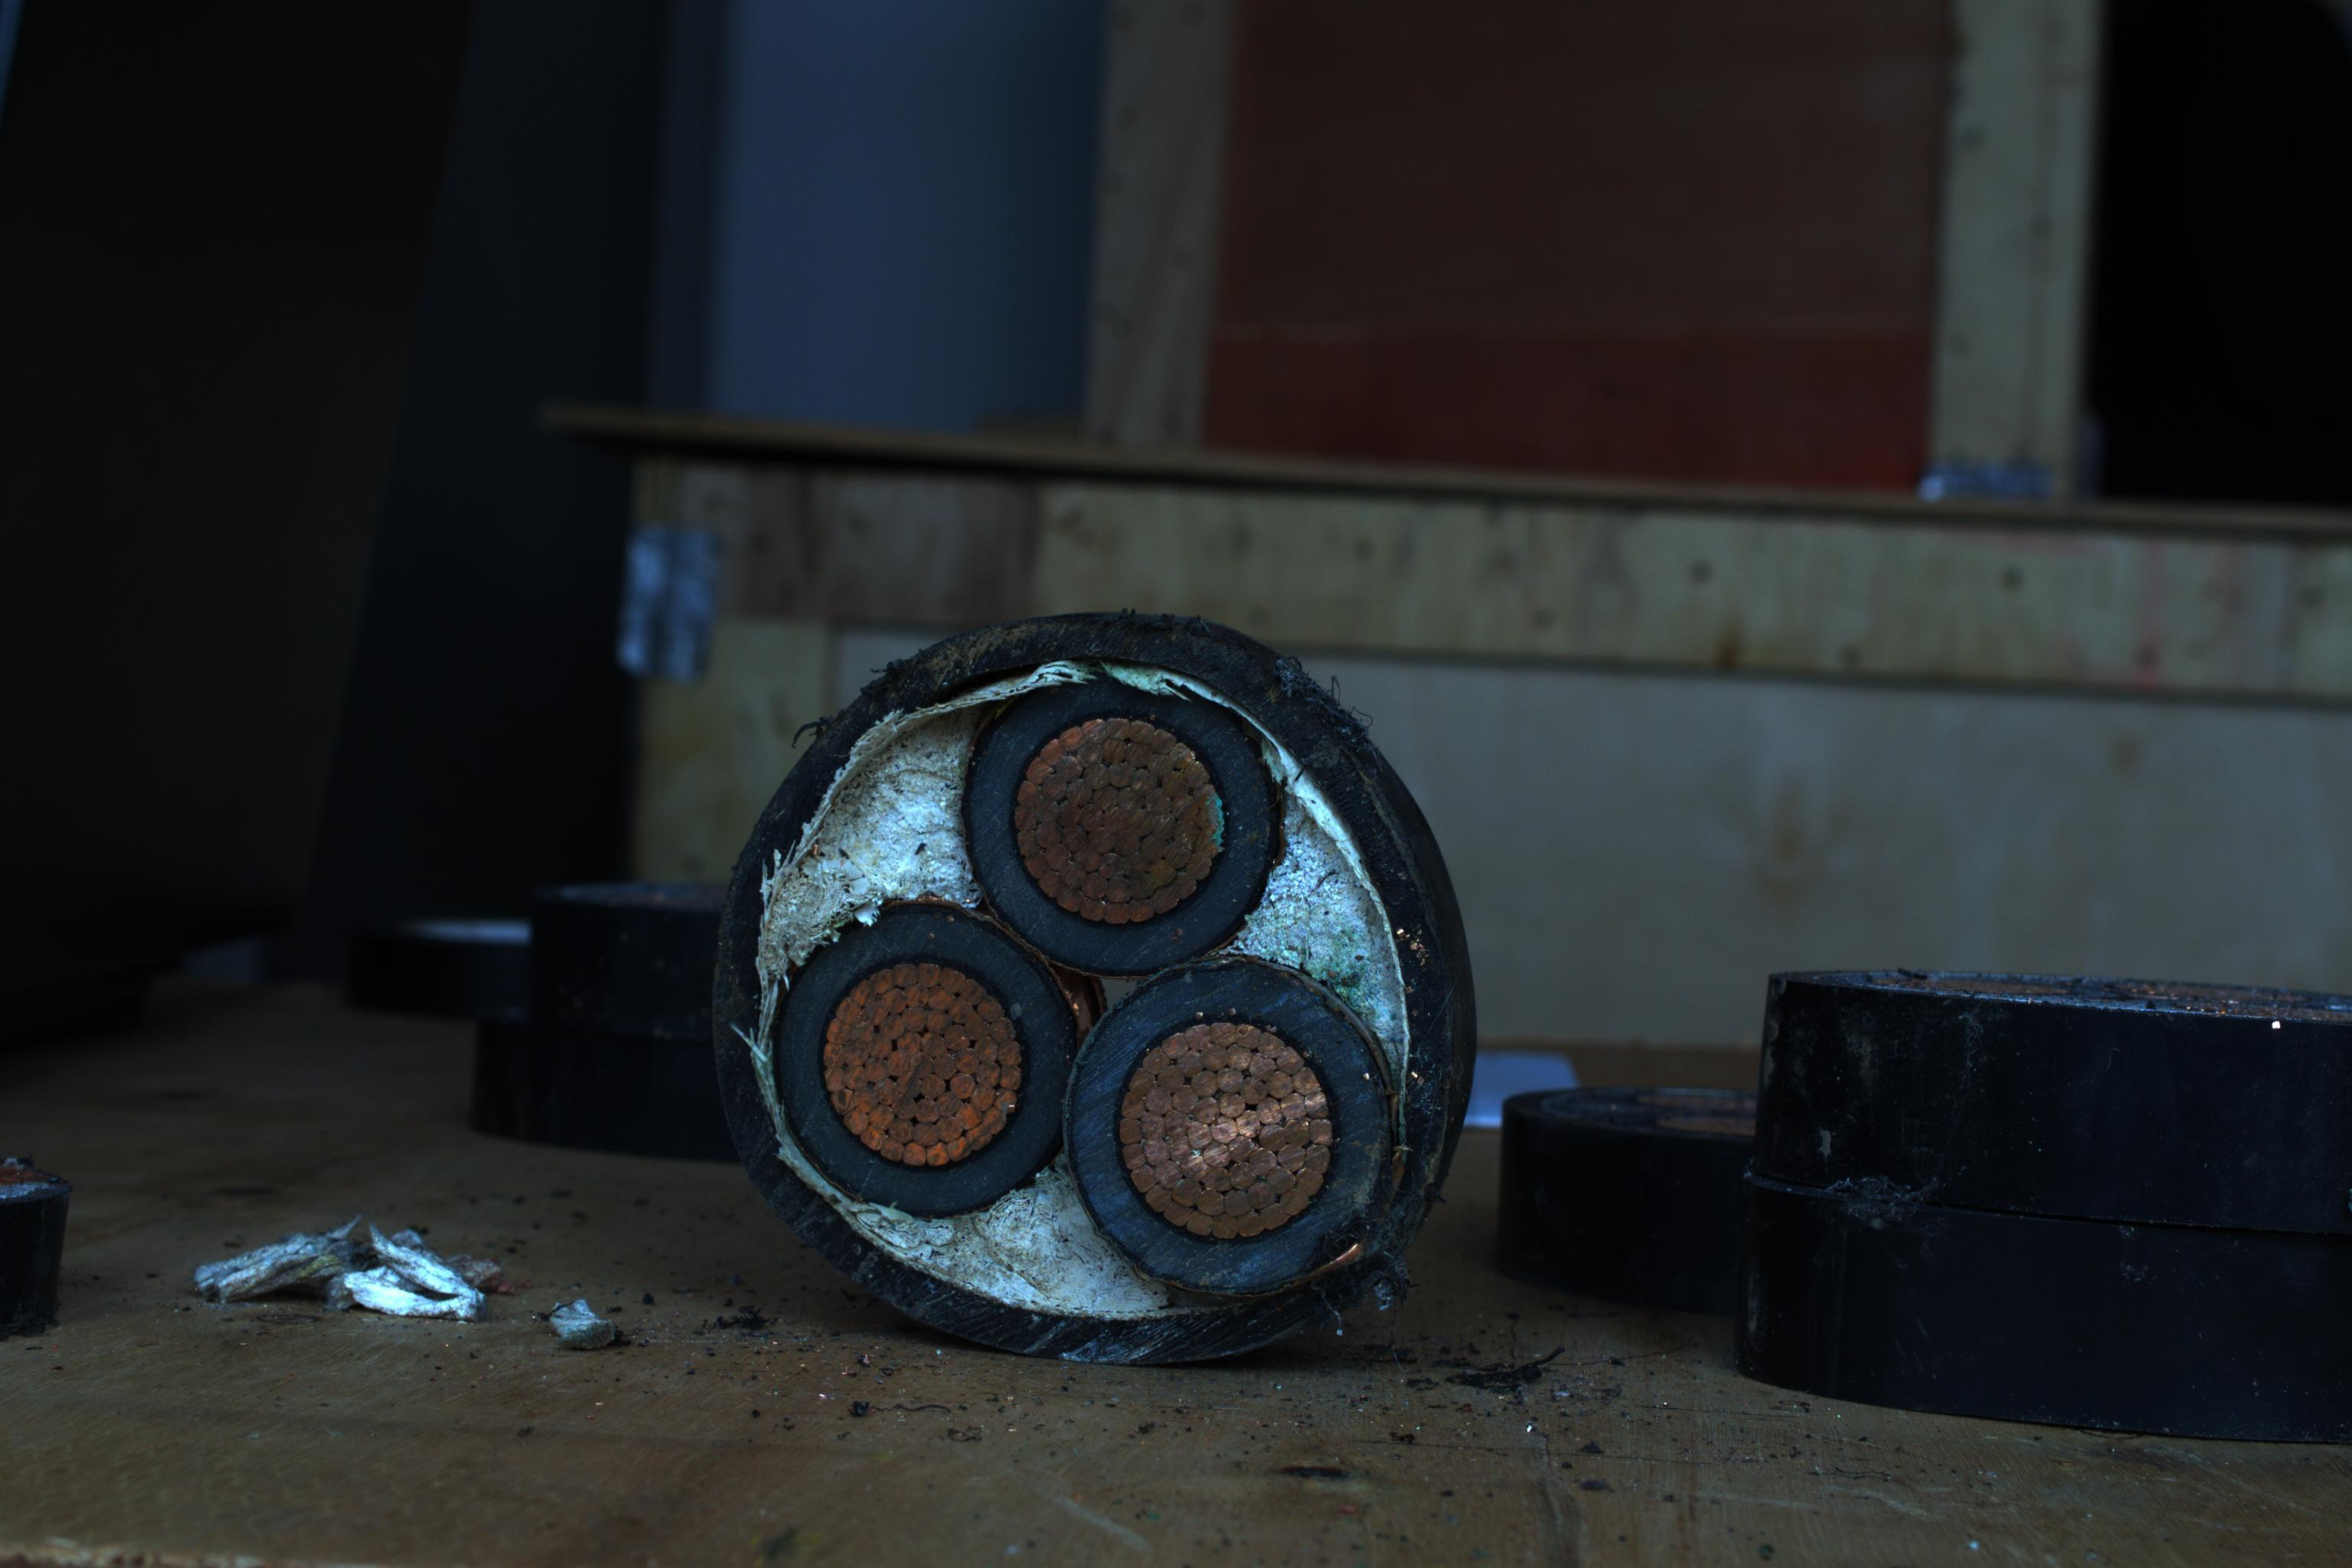ZA_YJV_8.7_10kV_3x400: (716, 604, 1480, 1335)
